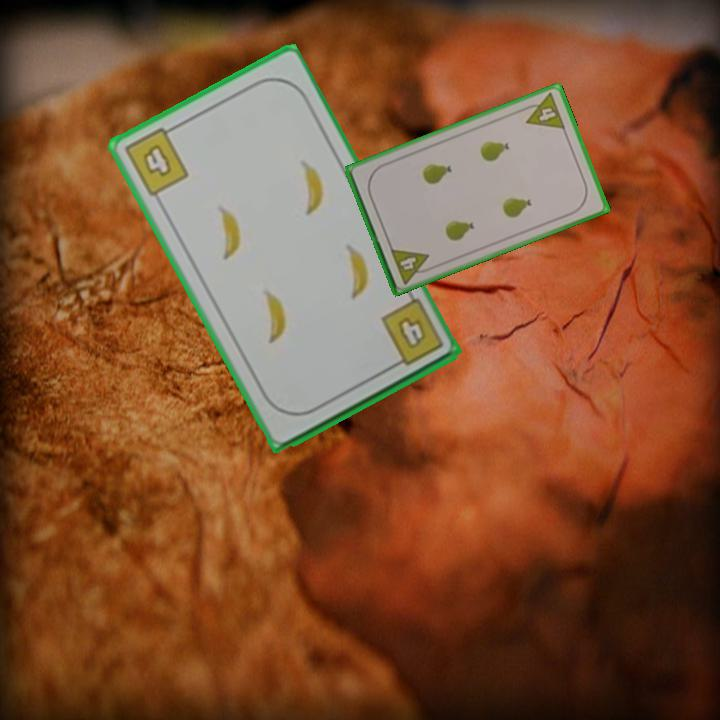4b: (120, 121, 191, 200), (376, 295, 446, 372)
4p: (518, 89, 568, 132), (387, 244, 436, 287)
